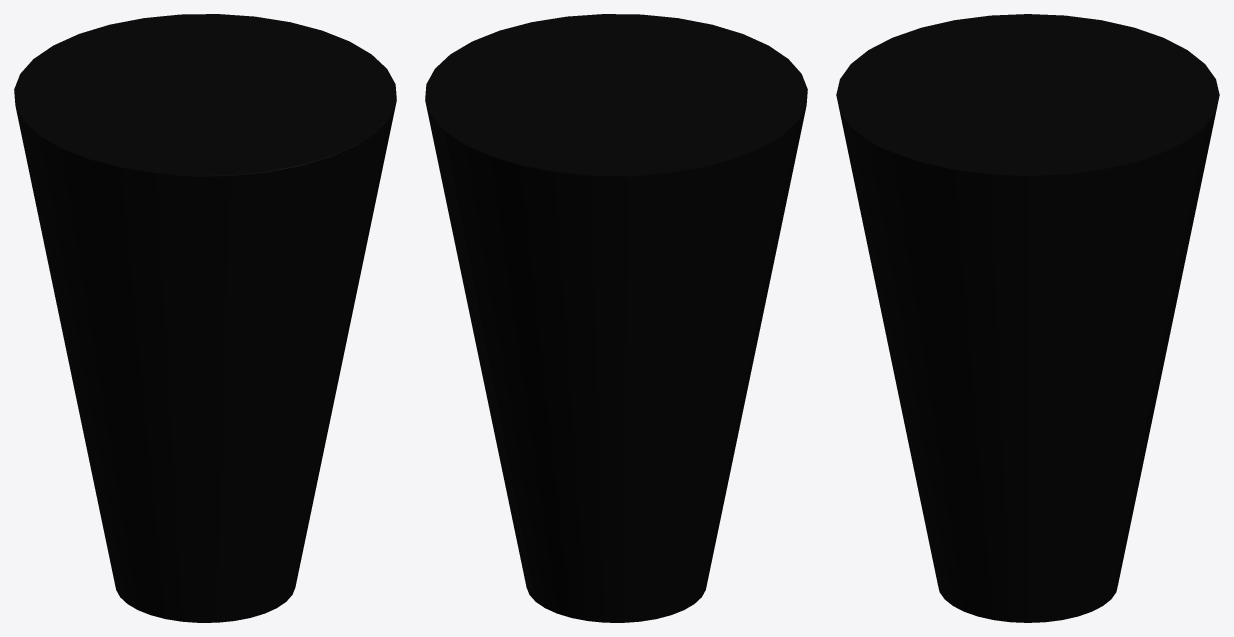
File: vortex_obj.obj
3 views of the same model, side by side, from view 1: azimuth 30°, elevation 25°; view 2: azimuth 150°, elevation 25°; view 3: azimuth 270°, elevation 25° (orthographic).
Parts seen in each view (by area): view 1: Cylinder; view 2: Cylinder; view 3: Cylinder.
Part boxes in pixels (<box>): Cylinder: <box>14,14,396,622</box>; Cylinder: <box>425,14,807,622</box>; Cylinder: <box>836,14,1219,622</box>.
Bounding box in the file's own units: 4.26 × 6 × 4.26.
